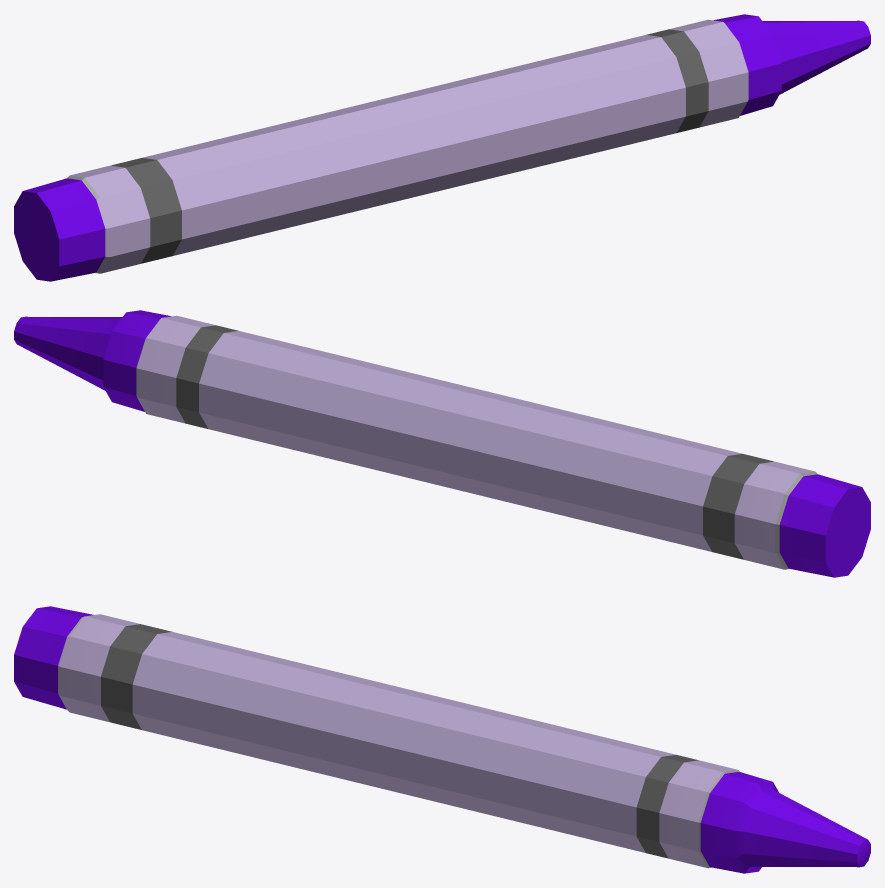
Rendered from Crayon_Indigo.fbx.
3 views of the same model, one above another, from view 1: azimuth 30°, elevation 25°; view 2: azimuth 150°, elevation 25°; view 3: azimuth 330°, elevation 25° (orthographic).
Visible parts, largest first — view 1: pCylinder8; view 2: pCylinder8; view 3: pCylinder8.
Part boxes in pixels (box(x1,y1,x2,y2)): pCylinder8: box(14, 14, 870, 281); pCylinder8: box(14, 310, 870, 577); pCylinder8: box(14, 606, 870, 873).
Size of the model in its own units: 9.4 by 1.02 by 0.9667.
